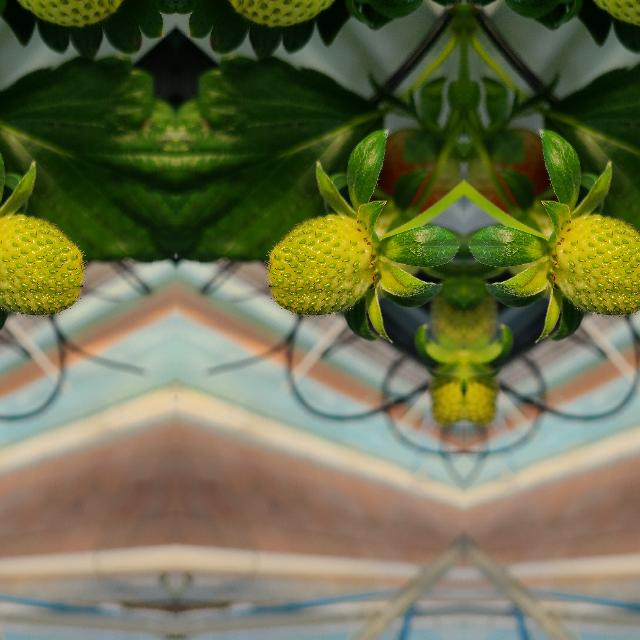Health_25: (266, 215, 370, 315), (556, 215, 640, 315), (0, 215, 83, 315)
